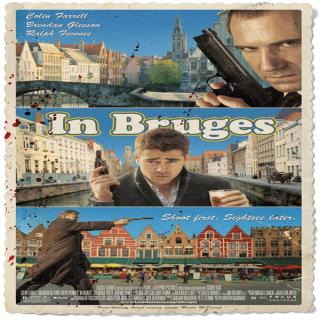gun: (181, 26, 276, 110), (85, 147, 120, 193), (116, 216, 154, 227)
